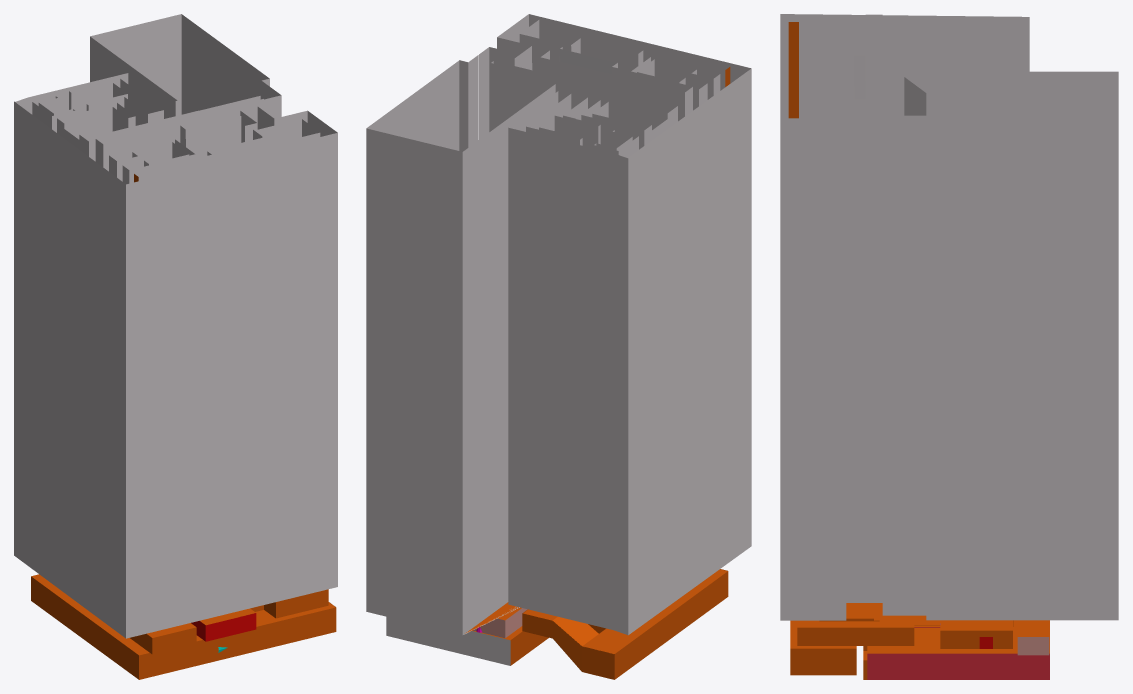
Rendered from AcuMap.fbx.
The picture shows the model from 3 angles, left to right: view 1: azimuth 30°, elevation 25°; view 2: azimuth 150°, elevation 25°; view 3: azimuth 270°, elevation 25°; orthographic projection. The views are drawn at different scales.
Visible parts, largest first — view 1: Plane; view 2: Plane; view 3: Plane.
Boxes of the visible parts, box(x1,y1,x2,y2) form: Plane: box(14, 14, 337, 679); Plane: box(366, 14, 751, 679); Plane: box(780, 14, 1118, 679).
Size of the model in its own units: 17.93 by 38.96 by 21.16.
